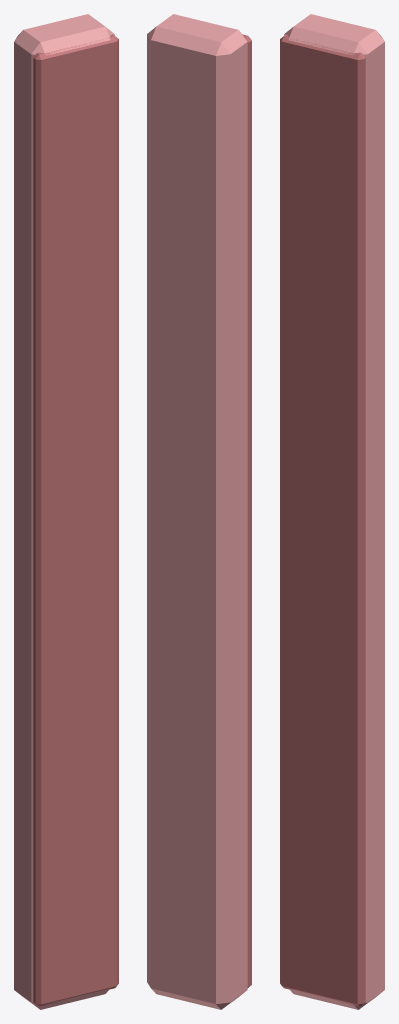
Rendered from ham.glb.
3 views of the same model, side by side, from view 1: azimuth 30°, elevation 25°; view 2: azimuth 150°, elevation 25°; view 3: azimuth 330°, elevation 25° (orthographic).
Visible parts, largest first — view 1: ham_rind_edge, ham_strip; view 2: ham_strip, ham_rind_edge; view 3: ham_rind_edge, ham_strip.
Boxes of the visible parts, left/top/right/bottom form: ham_rind_edge: left=33, top=34, right=118, bottom=1006; ham_strip: left=14, top=14, right=114, bottom=1009; ham_strip: left=147, top=14, right=247, bottom=1009; ham_rind_edge: left=243, top=34, right=251, bottom=987; ham_rind_edge: left=280, top=34, right=365, bottom=1006; ham_strip: left=284, top=14, right=384, bottom=1009.
Bounding box in the file's own units: 0.09 × 0.998 × 0.054.
